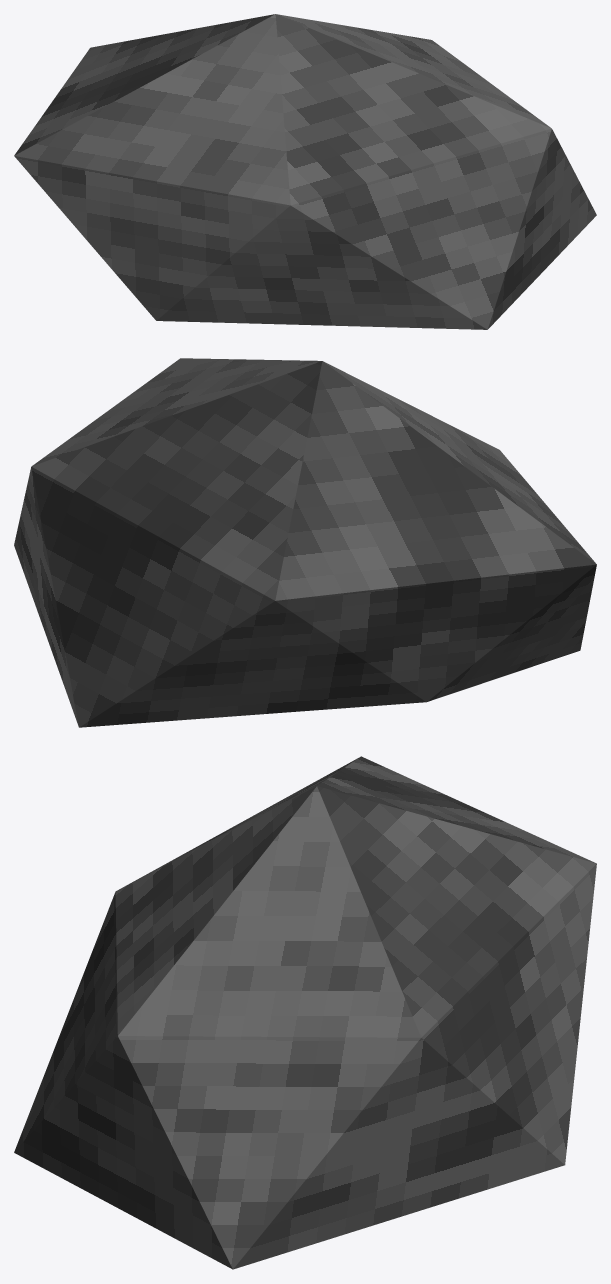
The model's file is Rock Small.fbx.
3 views of the same model, one above another, from view 1: azimuth 30°, elevation 25°; view 2: azimuth 150°, elevation 25°; view 3: azimuth 270°, elevation 25° (orthographic). The views are drawn at different scales.
Parts seen in each view (by area): view 1: Icosphere.001; view 2: Icosphere.001; view 3: Icosphere.001.
Boxes of the visible parts, x1,y1,x2,y2 form: Icosphere.001: (14, 14, 596, 329); Icosphere.001: (14, 358, 596, 727); Icosphere.001: (14, 756, 596, 1269).
Bounding box in the file's own units: 369 × 198 × 280.
